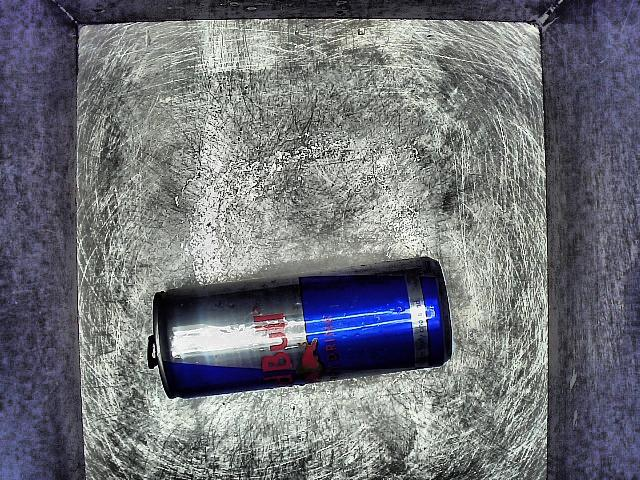Bottles: (138, 253, 474, 415)
